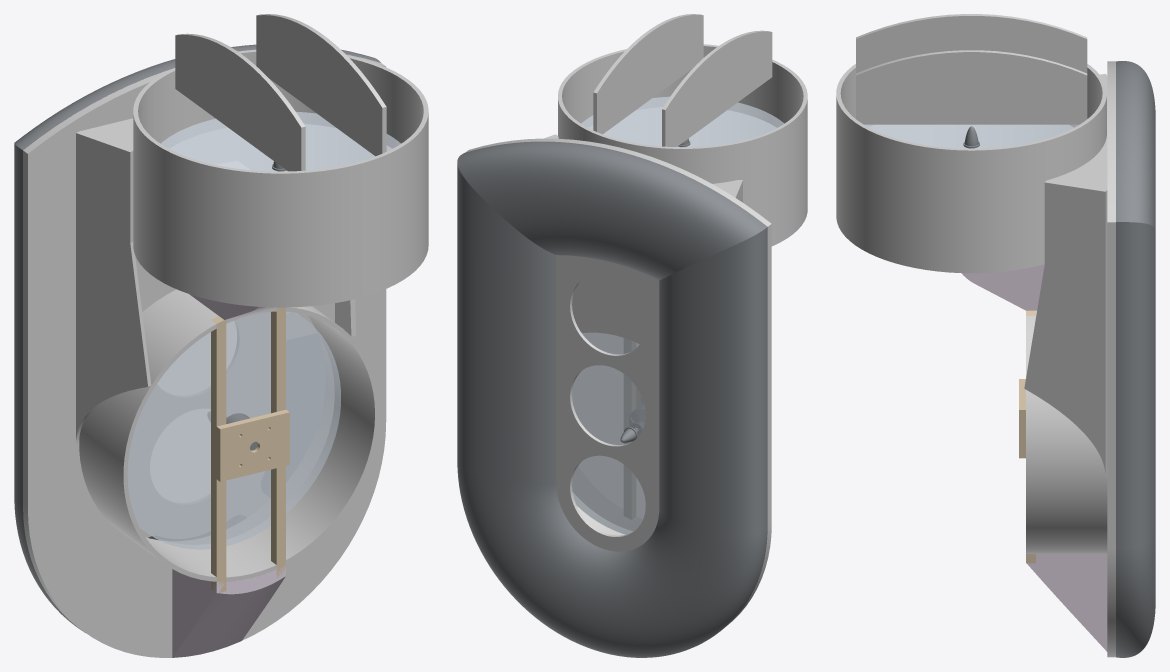
File: hovercraft_mk8.gltf
3 views of the same model, side by side, from view 1: azimuth 30°, elevation 25°; view 2: azimuth 150°, elevation 25°; view 3: azimuth 270°, elevation 25° (orthographic). The views are drawn at different scales.
Parts seen in each view (by area): view 1: Hovercraft - Mark VIII v6 (×13), Brushless Motor - 1020 Kv 420 Outrunner v3, Lift Motor Mount, Brushless Motor - 1020 Kv 420 Outrunner v3_1; view 2: Hovercraft - Mark VIII v6 (×8), Brushless Motor - 1020 Kv 420 Outrunner v3, Brushless Motor - 1020 Kv 420 Outrunner v3_1, Lift Motor Mount; view 3: Hovercraft - Mark VIII v6 (×11), Brushless Motor - 1020 Kv 420 Outrunner v3_1, Lift Motor Mount.
Part boxes in pixels (left/top/right/bottom): Hovercraft - Mark VIII v6 (×13): left=14, top=14, right=428, bottom=657; Brushless Motor - 1020 Kv 420 Outrunner v3: left=127, top=311, right=340, bottom=549; Lift Motor Mount: left=211, top=307, right=289, bottom=593; Brushless Motor - 1020 Kv 420 Outrunner v3_1: left=161, top=111, right=400, bottom=171; Hovercraft - Mark VIII v6 (×8): left=457, top=14, right=807, bottom=657; Brushless Motor - 1020 Kv 420 Outrunner v3: left=572, top=332, right=645, bottom=534; Brushless Motor - 1020 Kv 420 Outrunner v3_1: left=581, top=96, right=784, bottom=147; Lift Motor Mount: left=624, top=338, right=641, bottom=518; Hovercraft - Mark VIII v6 (×11): left=836, top=14, right=1155, bottom=657; Brushless Motor - 1020 Kv 420 Outrunner v3_1: left=864, top=124, right=1078, bottom=148; Lift Motor Mount: left=1019, top=310, right=1035, bottom=563.
Size of the model in its own units: 0.3566 by 0.6279 by 0.2995.
